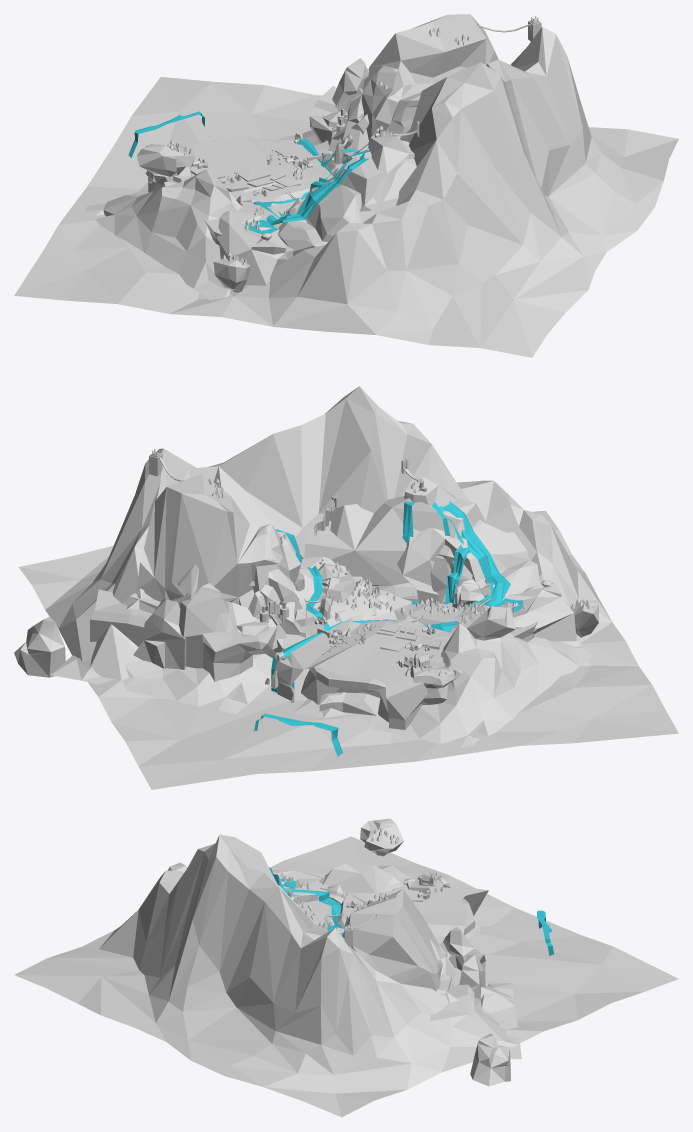
Rendered from SM_Fantasy_Scene_Terrain.fbx.
3 renders of one model, top to bottom at view 1: azimuth 30°, elevation 25°; view 2: azimuth 150°, elevation 25°; view 3: azimuth 270°, elevation 25°, orthographic. The views are drawn at different scales.
Parts seen in each view (by area): view 1: SM_Fantasy_Scene_Terrain; view 2: SM_Fantasy_Scene_Terrain; view 3: SM_Fantasy_Scene_Terrain.
Part boxes in pixels (x1=…): SM_Fantasy_Scene_Terrain: x1=14, y1=14, x2=678, y2=357; SM_Fantasy_Scene_Terrain: x1=14, y1=386, x2=678, y2=789; SM_Fantasy_Scene_Terrain: x1=14, y1=818, x2=678, y2=1117.
Bounding box in the file's own units: 1528 × 463 × 1528.
